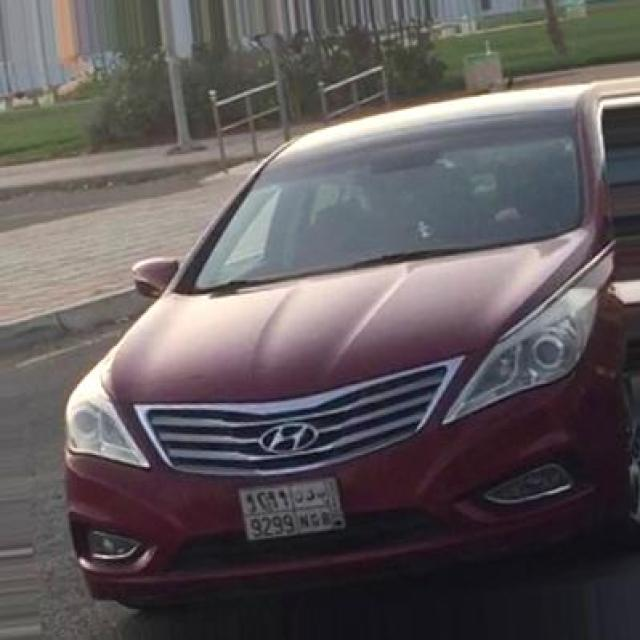Car-plate: (229, 466, 361, 559)
